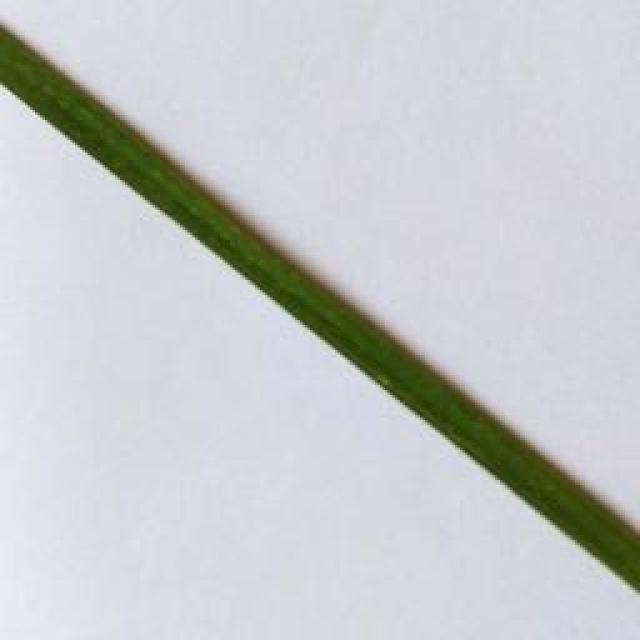Brown_Spot: (372, 370, 399, 396)
